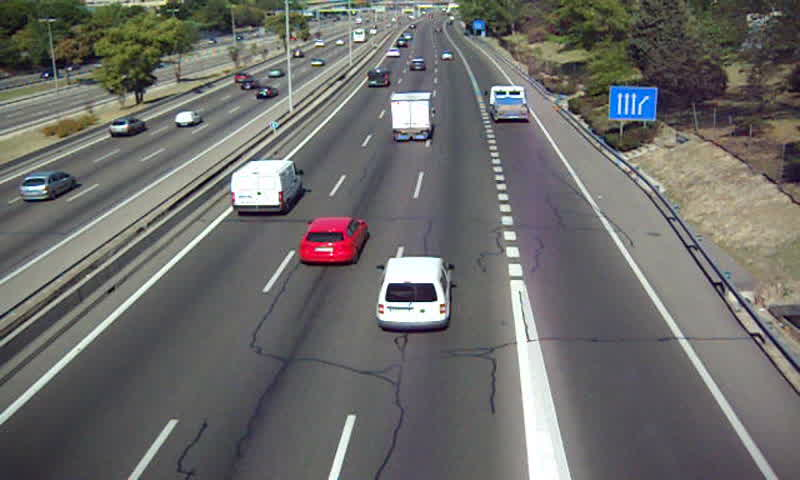car: (375, 256, 450, 332), (299, 216, 368, 264), (408, 58, 427, 74), (440, 50, 456, 63), (386, 46, 400, 58)
small-truck: (389, 91, 434, 140), (488, 85, 529, 122)
van: (231, 159, 303, 214), (364, 68, 390, 90)
